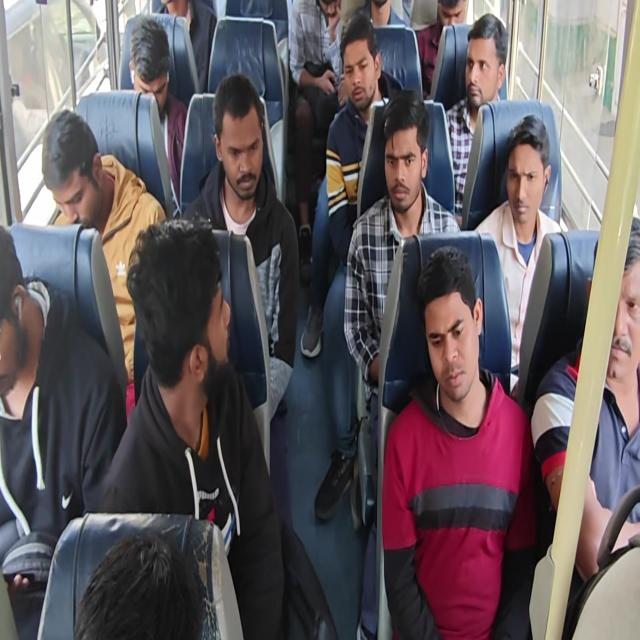person: (2, 1, 638, 638), (97, 216, 286, 638), (381, 244, 538, 638), (0, 223, 127, 637), (343, 89, 461, 469), (181, 73, 300, 422), (530, 215, 640, 583), (41, 108, 167, 420), (300, 12, 398, 358), (474, 114, 566, 396), (288, 0, 347, 283), (73, 528, 204, 639), (444, 13, 508, 223), (128, 17, 188, 211), (158, 0, 217, 94), (415, 0, 468, 98), (353, 0, 407, 28)
